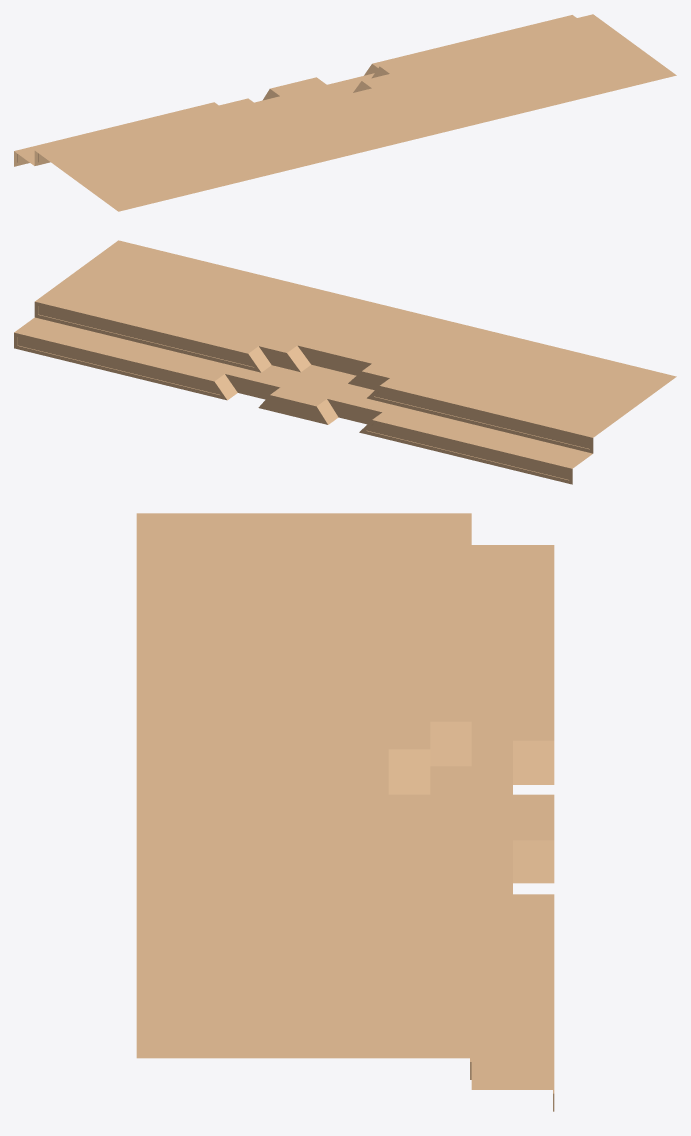
The model's file is BDoor_Stand.fbx.
The picture shows the model from 3 angles, top to bottom: view 1: azimuth 30°, elevation 25°; view 2: azimuth 150°, elevation 25°; view 3: azimuth 270°, elevation 25°; orthographic projection. The views are drawn at different scales.
Parts seen in each view (by area): view 1: BDoor_Stand; view 2: BDoor_Stand; view 3: BDoor_Stand.
Part boxes in pixels (x1,y1,x2,y2): BDoor_Stand: (14,14,676,211); BDoor_Stand: (14,240,676,484); BDoor_Stand: (136,513,554,1111).
Bounding box in the file's own units: 7407 × 400 × 2400.
